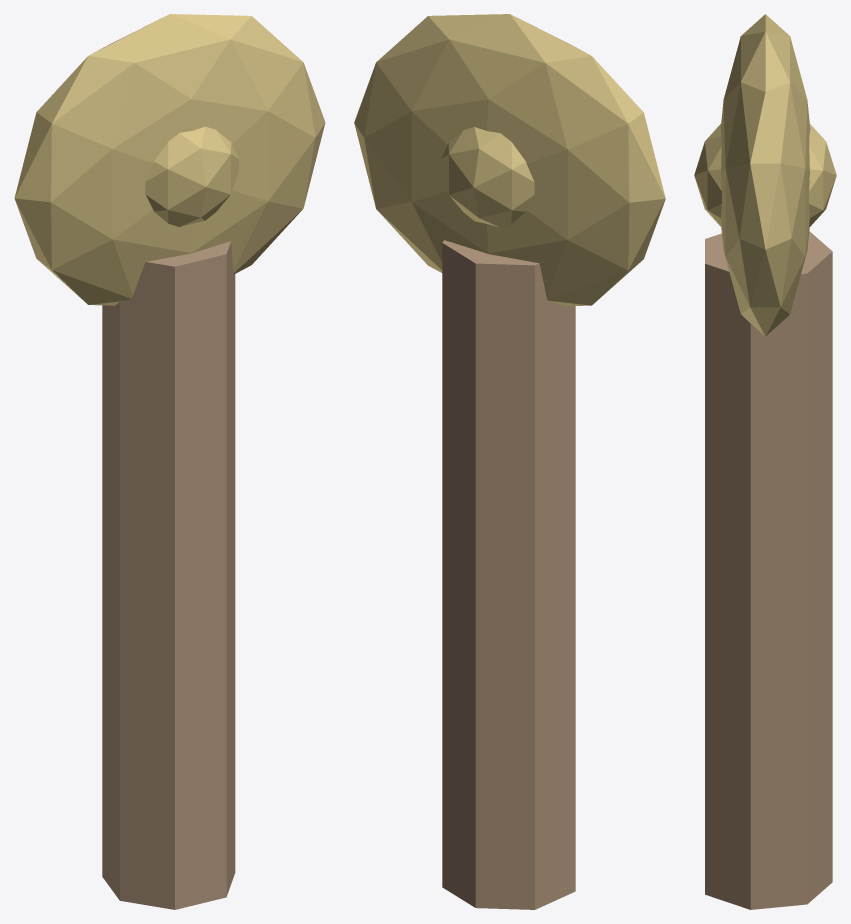
Rendered from web_anchor_post.glb.
3 renders of one model, left to right at view 1: azimuth 30°, elevation 25°; view 2: azimuth 150°, elevation 25°; view 3: azimuth 270°, elevation 25°, orthographic. The views are drawn at different scales.
Visible parts, largest first — view 1: Post, Badge, Socket_socket; view 2: Post, Badge, Socket_socket; view 3: Post, Badge, Socket_socket.
Boxes of the visible parts, <box> form: Post: <box>102,241,235,909</box>; Badge: <box>14,14,325,305</box>; Socket_socket: <box>145,126,238,226</box>; Post: <box>442,240,575,909</box>; Badge: <box>354,14,665,306</box>; Socket_socket: <box>440,127,534,227</box>; Post: <box>705,231,832,909</box>; Badge: <box>720,14,810,336</box>; Socket_socket: <box>694,123,836,227</box>.
Bounding box in the file's own units: 0.42 × 1.12 × 0.17.
